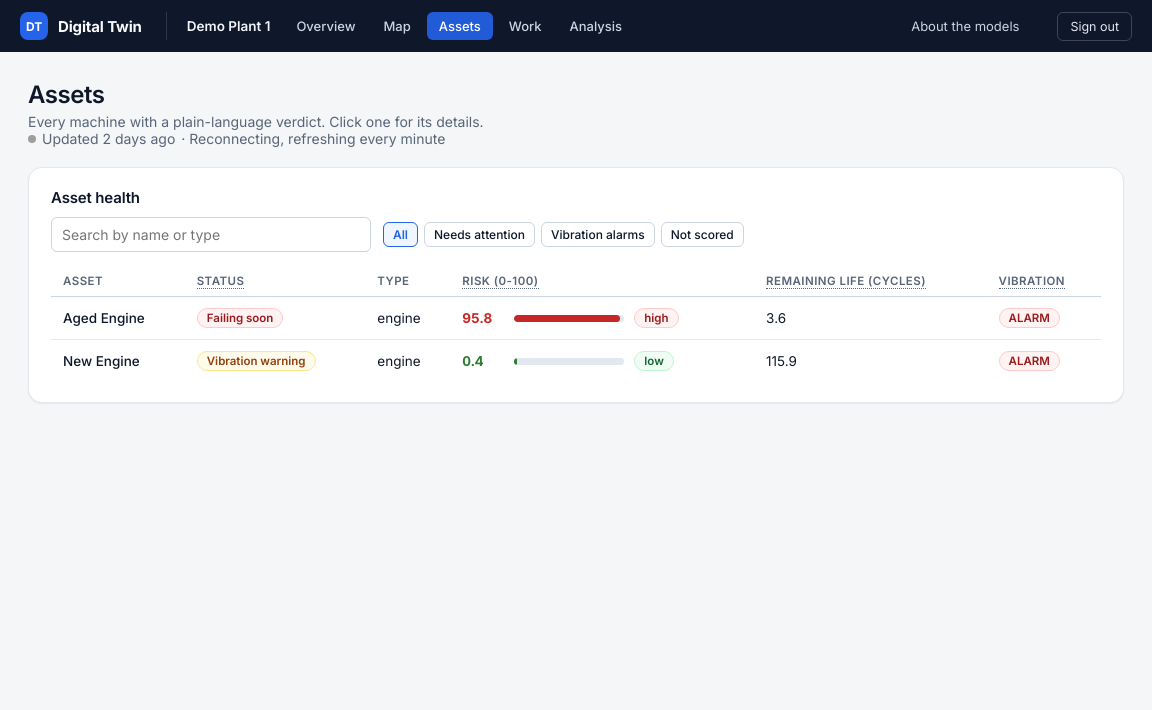
Scenario: FacilityAssetsPage › passes the selected asset's score history to the panel (and only that asset's)
The image size is (1152, 710).
Click the button "Aged Engine". click: point(104, 318)
box: 63,310 -> 145,326
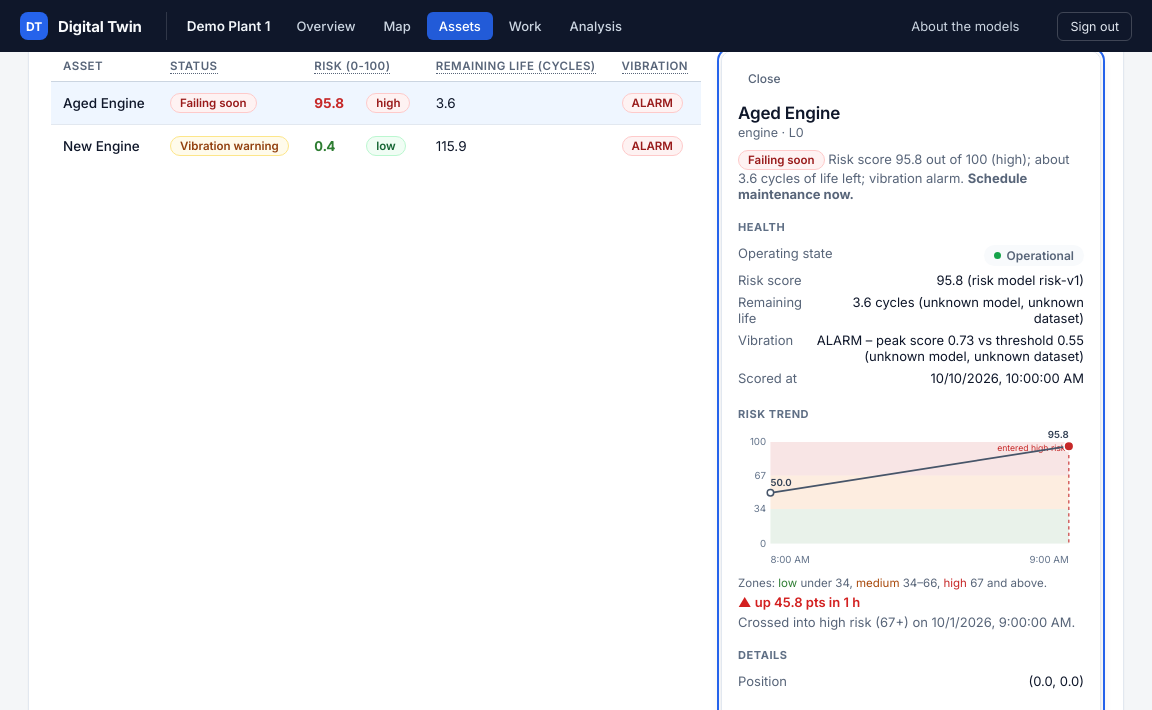
Expected: the text "▲ up 45.8 pts in 1 h" is shown, 738,594 -> 860,610
